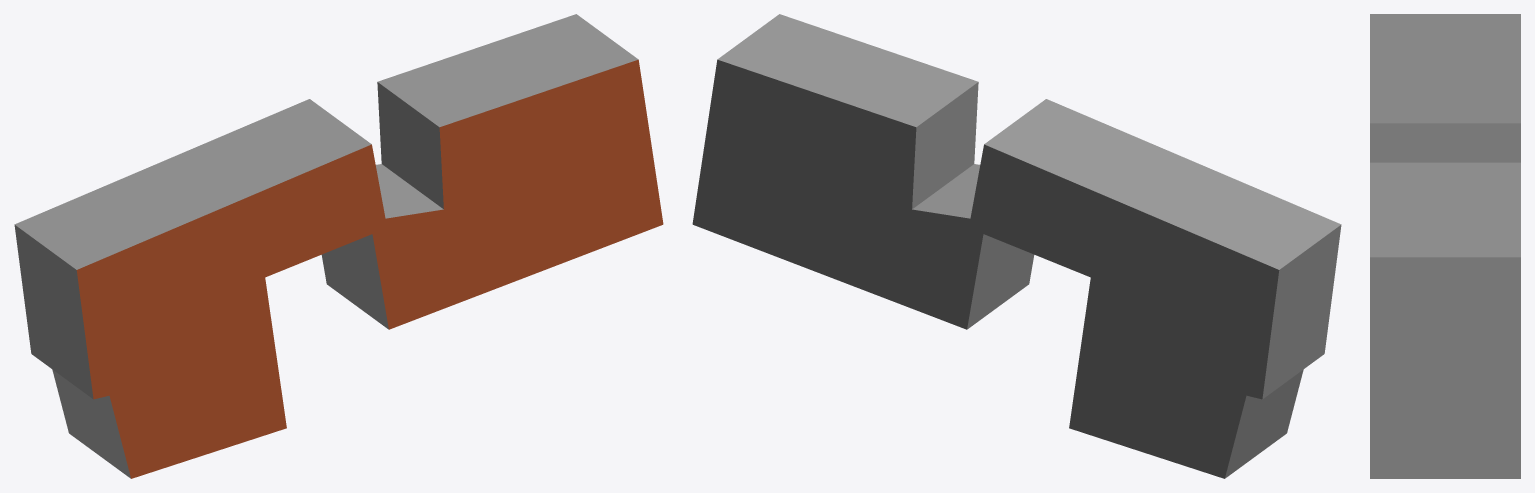
The model's file is construction_0896_assumed_A_Casa_h6m.obj.
3 views of the same model, side by side, from view 1: azimuth 30°, elevation 25°; view 2: azimuth 150°, elevation 25°; view 3: azimuth 270°, elevation 25° (orthographic). The views are drawn at different scales.
Parts seen in each view (by area): view 1: construction_0896_assumed_A_Casa; view 2: construction_0896_assumed_A_Casa; view 3: construction_0896_assumed_A_Casa.
Part boxes in pixels (x1=…): construction_0896_assumed_A_Casa: x1=14, y1=14, x2=663, y2=478; construction_0896_assumed_A_Casa: x1=692, y1=14, x2=1341, y2=478; construction_0896_assumed_A_Casa: x1=1370, y1=14, x2=1520, y2=478.
Bounding box in the file's own units: 32.67 × 15.73 × 6.
